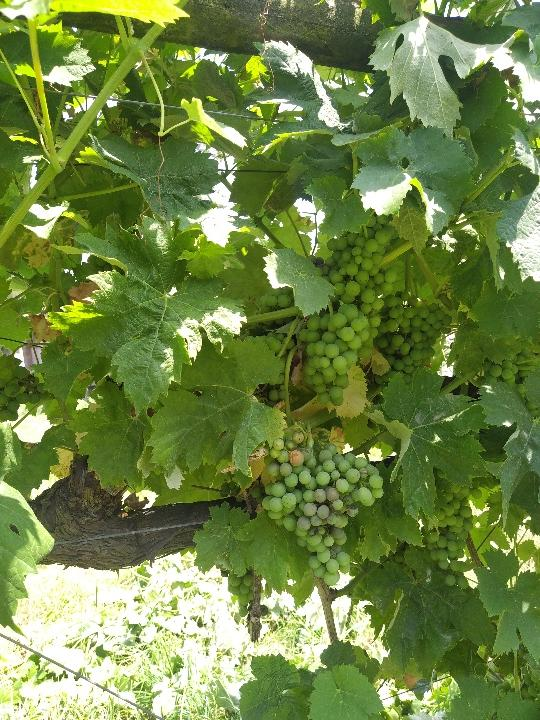grape: (250, 424, 388, 589), (293, 223, 398, 406)
